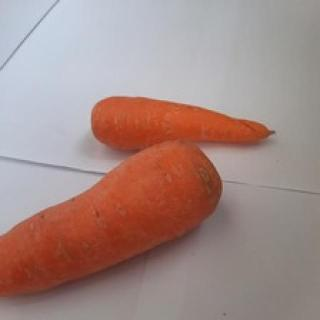carrot: (0, 140, 224, 297), (93, 94, 277, 150)
